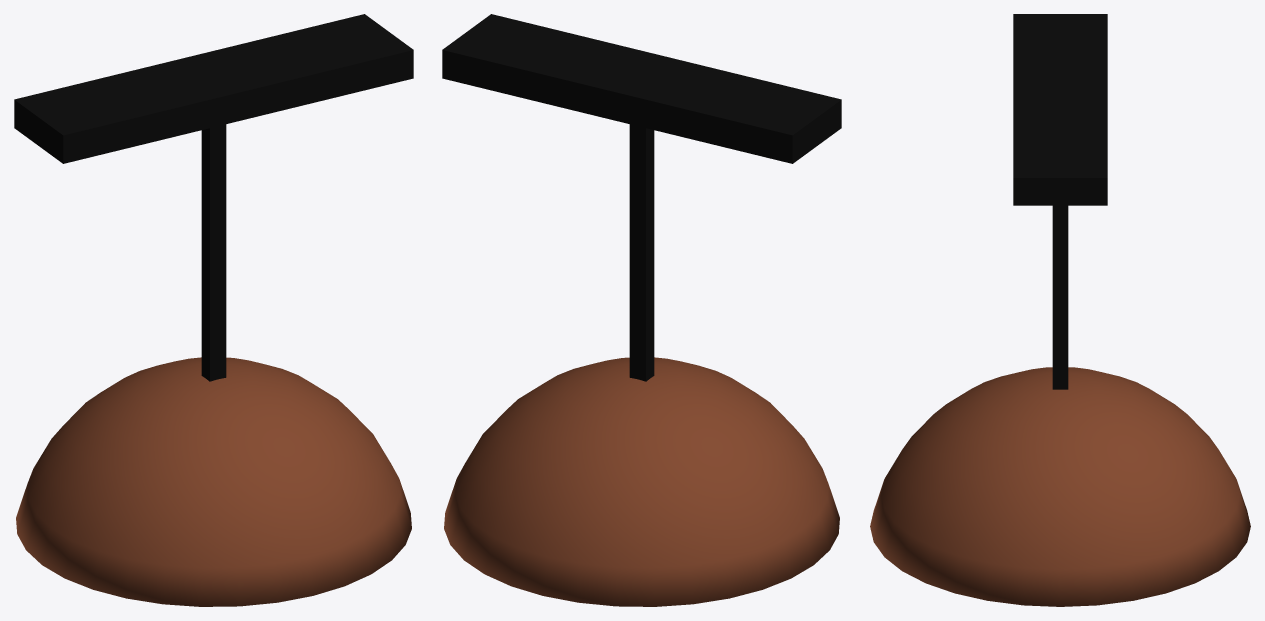
Rendered from ceil-lamp.gltf.
3 views of the same model, side by side, from view 1: azimuth 30°, elevation 25°; view 2: azimuth 150°, elevation 25°; view 3: azimuth 270°, elevation 25° (orthographic). The views are drawn at different scales.
Visible parts, largest first — view 1: ceil-lamp; view 2: ceil-lamp; view 3: ceil-lamp.
Part boxes in pixels (<box>): ceil-lamp: <box>14,14,413,606</box>; ceil-lamp: <box>442,14,841,606</box>; ceil-lamp: <box>870,14,1250,606</box>.
Bounding box in the file's own units: 0.3532 × 0.4335 × 0.3465.
